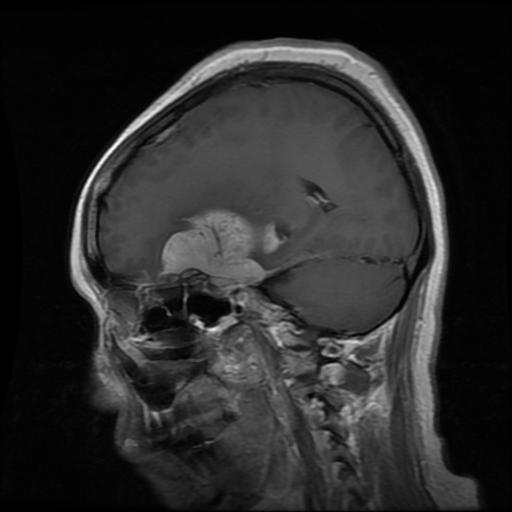Menigiomia_tumour: (160, 209, 267, 282)
